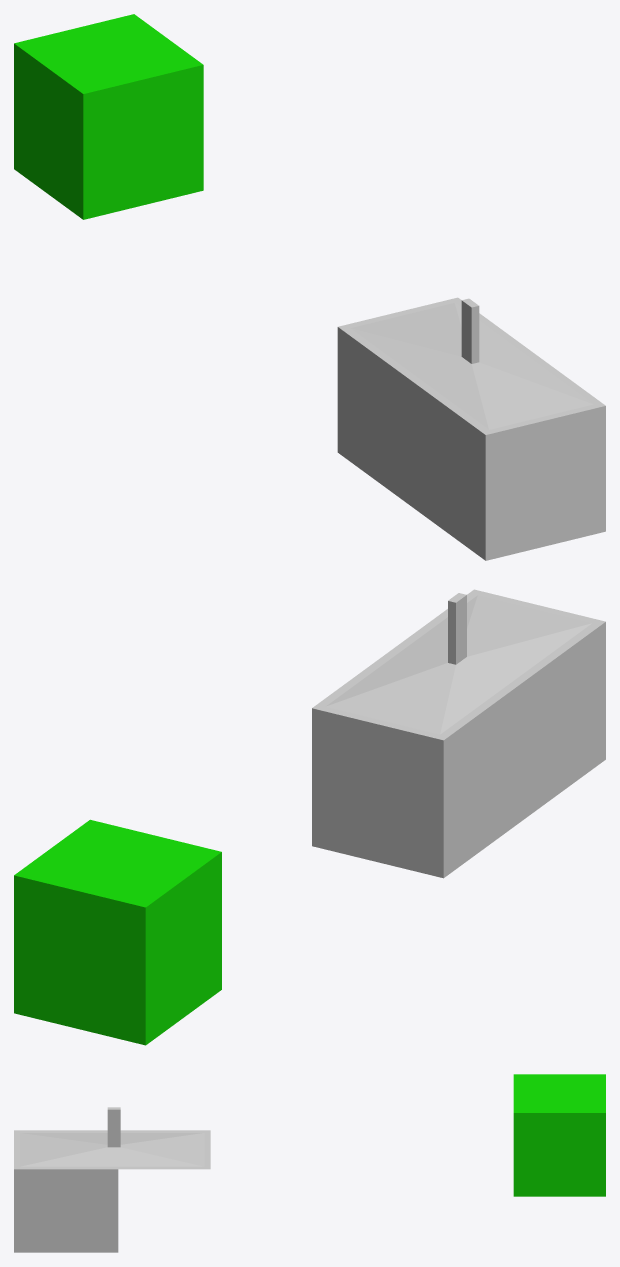
Rendered from scenario1.glb.
The picture shows the model from 3 angles, top to bottom: view 1: azimuth 30°, elevation 25°; view 2: azimuth 150°, elevation 25°; view 3: azimuth 270°, elevation 25°; orthographic projection. The views are drawn at different scales.
Parts seen in each view (by area): view 1: House, Cube; view 2: House, Cube; view 3: House, Cube.
Part boxes in pixels (left/top/right/bottom): House: left=337, top=297, right=605, bottom=560; Cube: left=14, top=14, right=203, bottom=219; House: left=312, top=589, right=605, bottom=878; Cube: left=14, top=819, right=221, bottom=1045; House: left=14, top=1107, right=210, bottom=1252; Cube: left=513, top=1074, right=605, bottom=1196.
Size of what is drawn, in the model's own units: 2.43 by 3.14 by 12.84.
